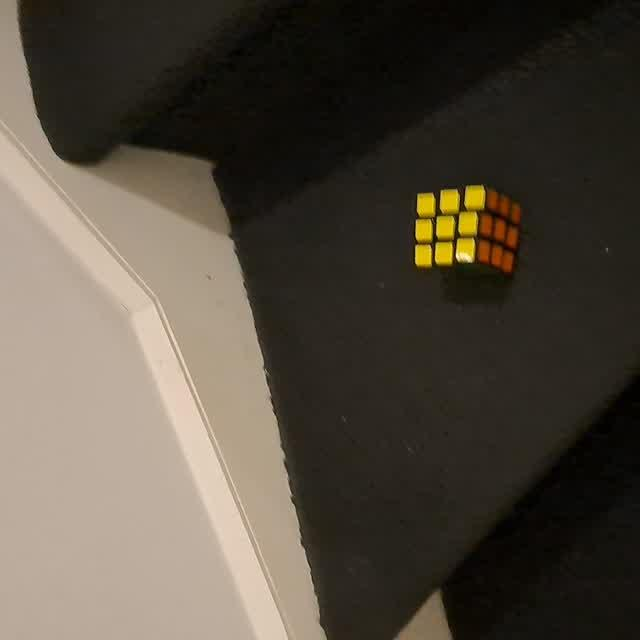rubix_cube: (405, 181, 527, 288)
